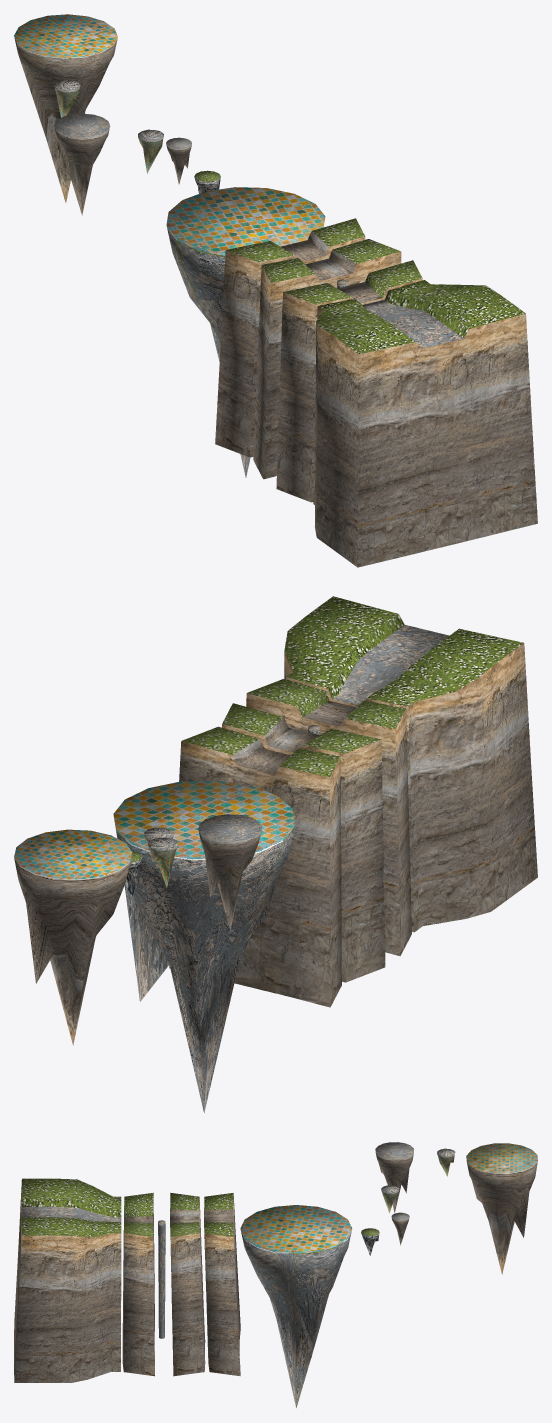
File: Level1.glb
3 views of the same model, one above another, from view 1: azimuth 30°, elevation 25°; view 2: azimuth 150°, elevation 25°; view 3: azimuth 270°, elevation 25° (orthographic). The views are drawn at different scales.
Parts seen in each view (by area): view 1: Plane.001, Plane.004, Plane.003, Plane.009, Plane.010, Plane.005, Plane.006, Plane.012, Plane.008, Plane.011; view 2: Plane.001, Plane.004, Plane.003, Plane.005, Plane.010, Plane.009, Plane.006, Plane.008; view 3: Plane.001, Plane.004, Plane.003, Plane.010, Plane.009, Plane.005, Plane.006, Plane.002, Plane.012.
Boxes of the visible parts, box(x1,y1,x2,y2) form: Plane.001: box(313, 280, 537, 567); Plane.004: box(166, 187, 325, 477); Plane.003: box(215, 218, 365, 457); Plane.009: box(276, 260, 422, 502); Plane.010: box(253, 239, 401, 479); Plane.005: box(14, 14, 117, 202); Plane.006: box(54, 113, 110, 215); Plane.012: box(166, 137, 191, 184); Plane.008: box(54, 80, 80, 117); Plane.011: box(138, 129, 163, 173); Plane.001: box(284, 596, 537, 932); Plane.004: box(113, 780, 294, 1112); Plane.003: box(169, 726, 341, 1007); Plane.005: box(14, 829, 132, 1045); Plane.010: box(222, 703, 385, 982); Plane.009: box(246, 679, 411, 956); Plane.006: box(198, 814, 262, 930); Plane.008: box(148, 837, 177, 887); Plane.001: box(14, 1178, 121, 1382); Plane.004: box(240, 1205, 352, 1407); Plane.003: box(204, 1193, 240, 1376); Plane.010: box(170, 1192, 205, 1376); Plane.009: box(122, 1192, 154, 1376); Plane.005: box(466, 1143, 537, 1274); Plane.006: box(375, 1142, 413, 1212); Plane.002: box(158, 1220, 165, 1338); Plane.012: box(391, 1212, 409, 1245).
Size of the model in its own units: 177 by 279 by 554.
Materials: 1 (1 with a texture image).
